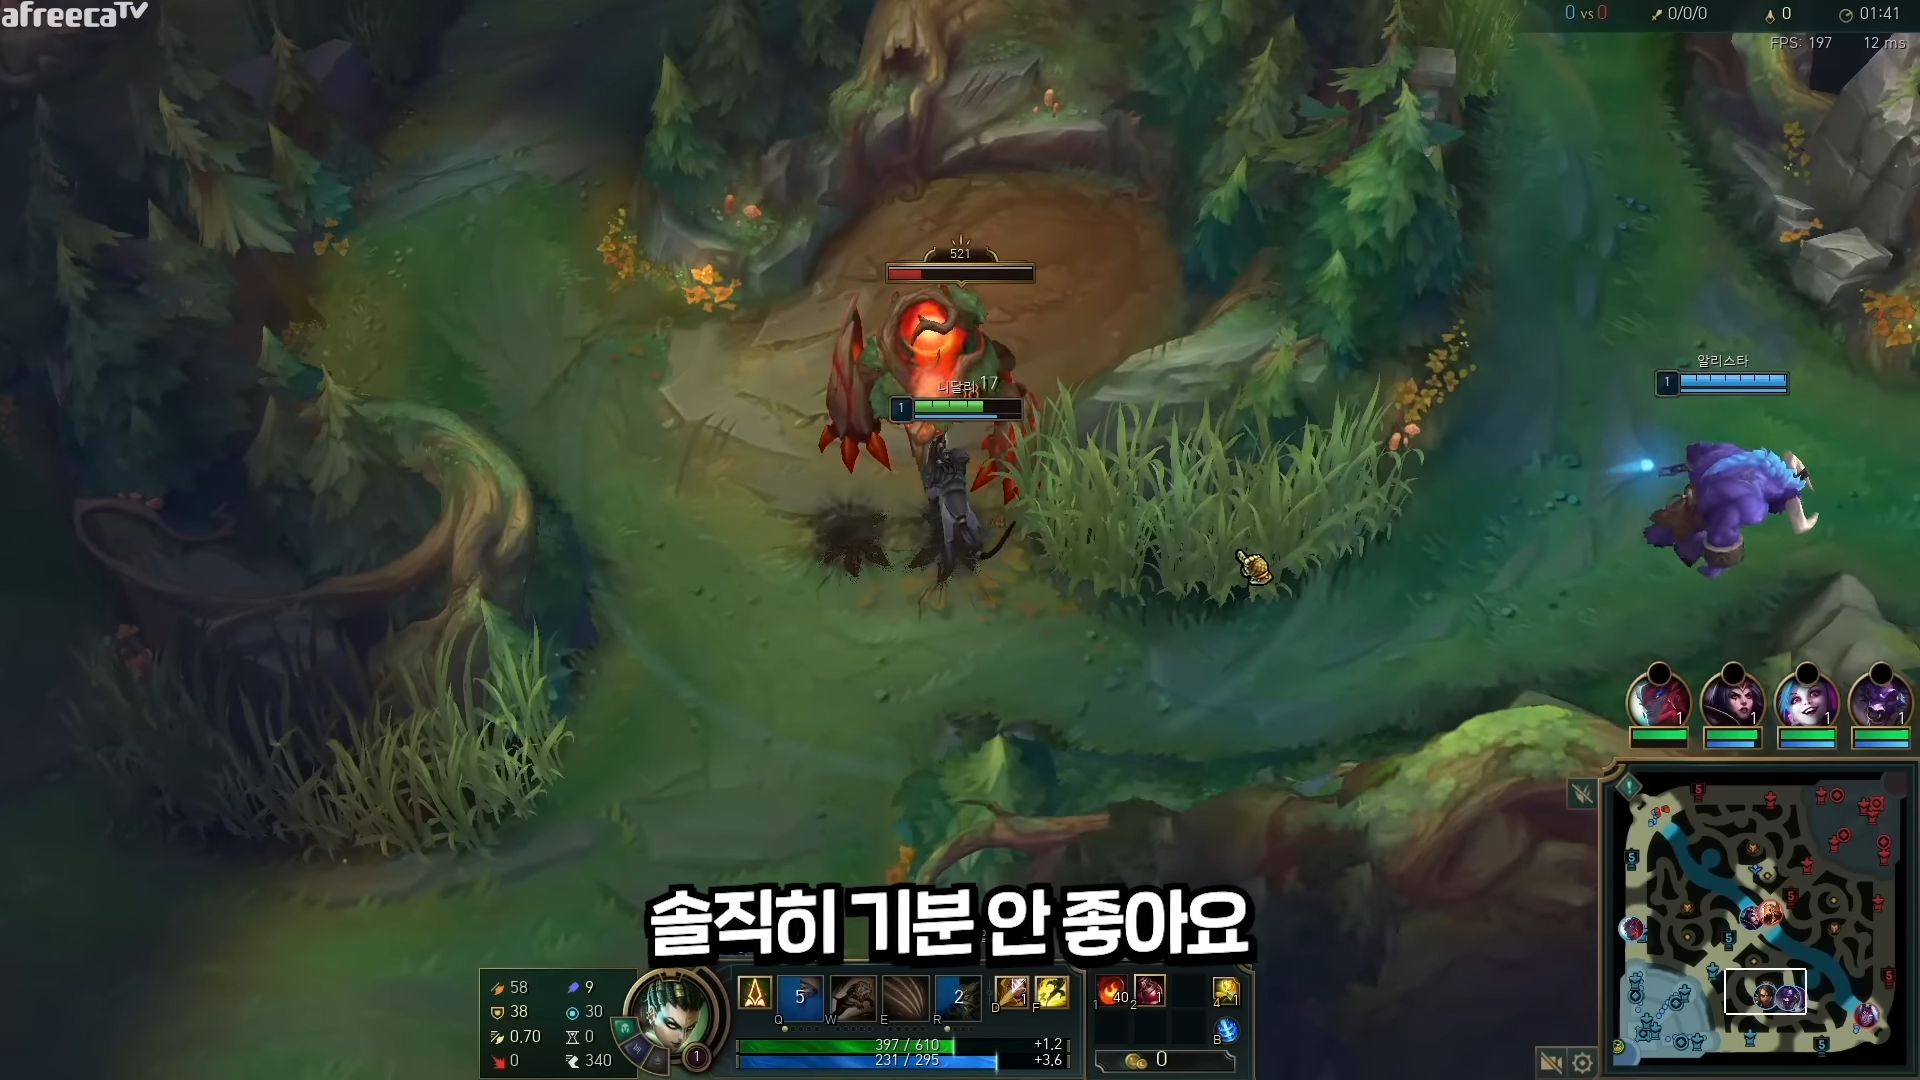Nidalee: (884, 389, 1035, 430)
Partner: (1651, 363, 1792, 400)
